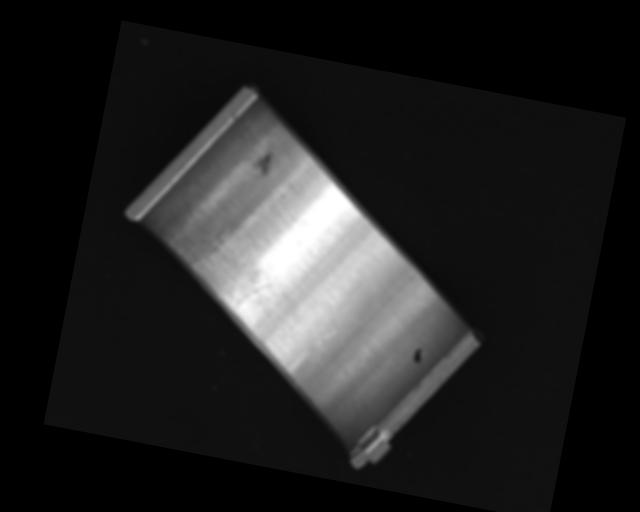blot: (411, 346, 424, 365)
bruise: (252, 150, 274, 180)
nick: (285, 307, 340, 380)
scratch: (157, 215, 298, 329)
